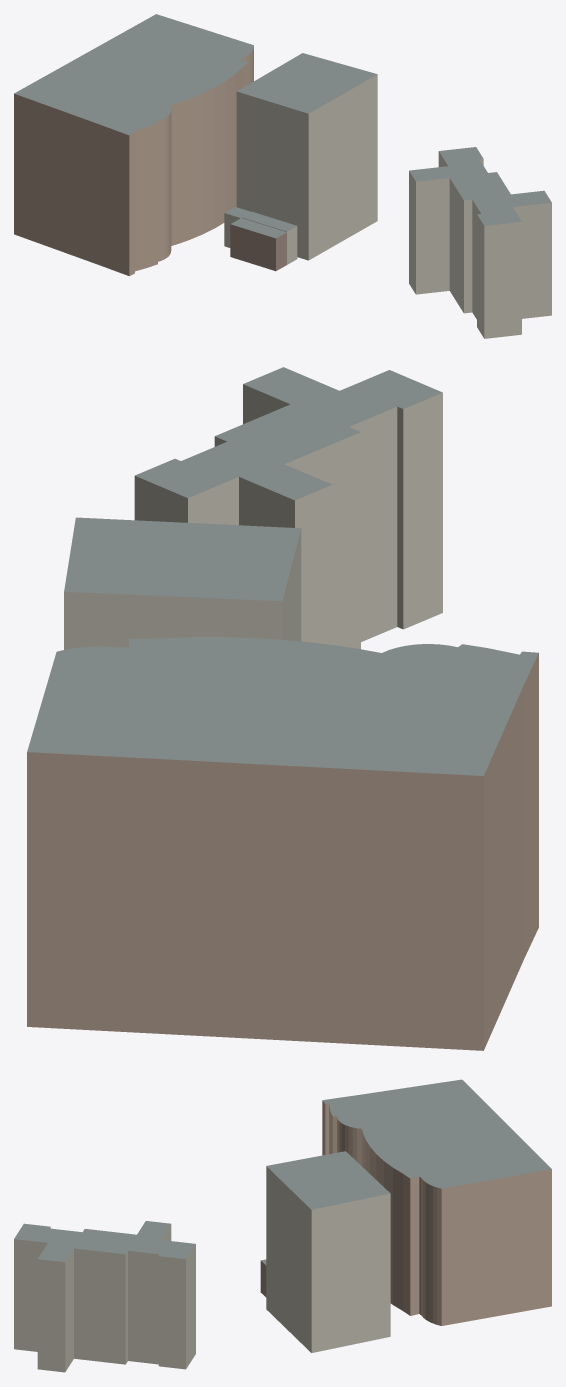
Rendered from context--2-0.gltf.
3 renders of one model, top to bottom at view 1: azimuth 30°, elevation 25°; view 2: azimuth 150°, elevation 25°; view 3: azimuth 270°, elevation 25°, orthographic. The views are drawn at different scales.
Visible parts, largest first — view 1: context--2-0; view 2: context--2-0; view 3: context--2-0.
Part boxes in pixels (x1=…): context--2-0: x1=14, y1=14, x2=551, y2=338; context--2-0: x1=27, y1=367, x2=538, y2=1050; context--2-0: x1=14, y1=1079, x2=551, y2=1372.
Bounding box in the file's own units: 97.01 × 41.65 × 142.
